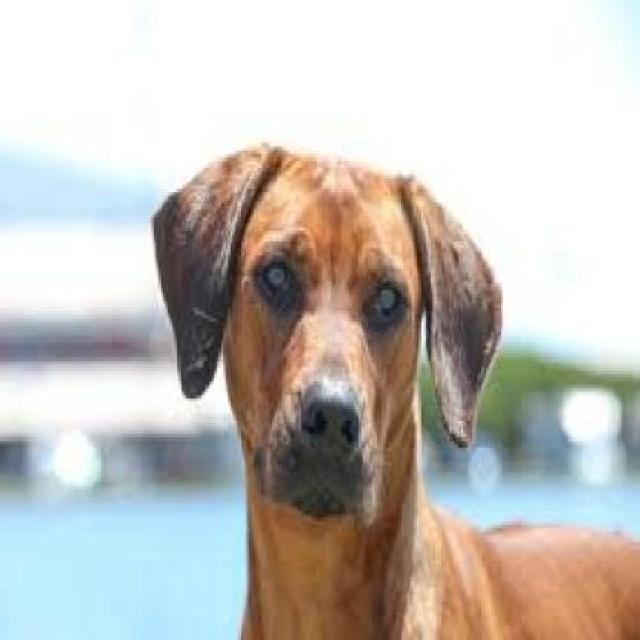animals: (93, 101, 622, 640)
